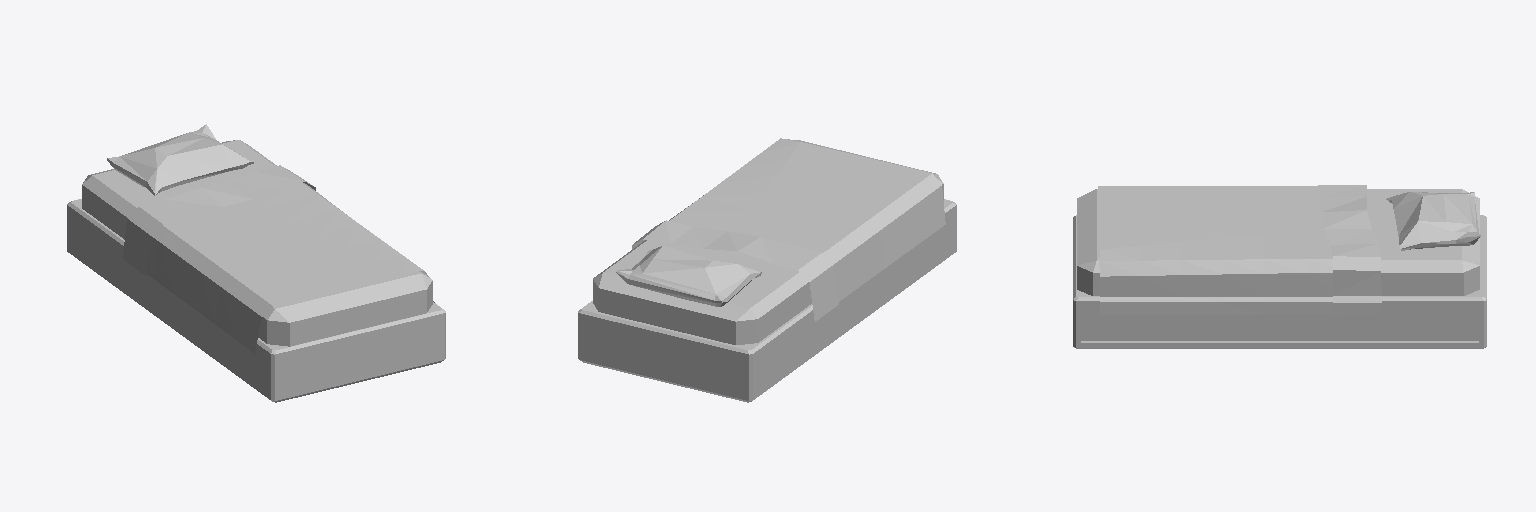
Rendered from bed_001.obj.
The picture shows the model from 3 angles: view 1: azimuth 30°, elevation 25°; view 2: azimuth 150°, elevation 25°; view 3: azimuth 270°, elevation 25°; orthographic projection.
Visible parts, largest first — view 1: bed_001; view 2: bed_001; view 3: bed_001.
Boxes of the visible parts, x1=… form: bed_001: x1=67, y1=124, x2=445, y2=402; bed_001: x1=578, y1=138, x2=956, y2=402; bed_001: x1=1073, y1=185, x2=1486, y2=348.
Bounding box in the file's own units: 1.11 × 0.6228 × 2.21.